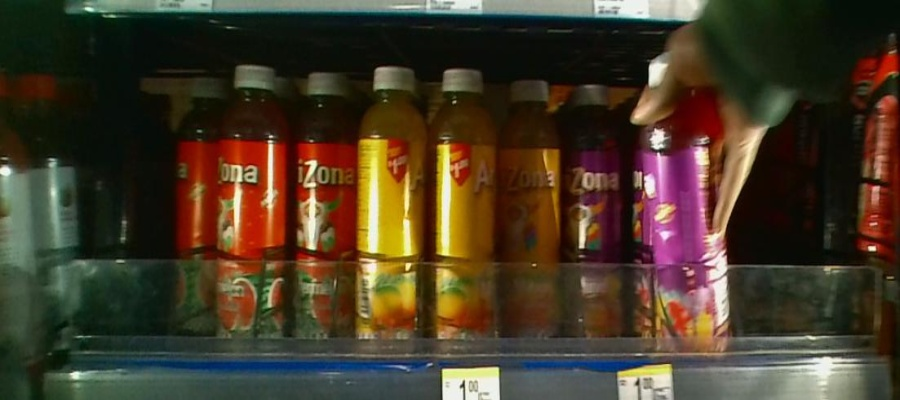bottle: (641, 53, 732, 355), (218, 54, 290, 356), (496, 57, 561, 364), (357, 70, 425, 361), (429, 65, 495, 356), (565, 75, 624, 363), (295, 64, 351, 354), (169, 66, 216, 339)
